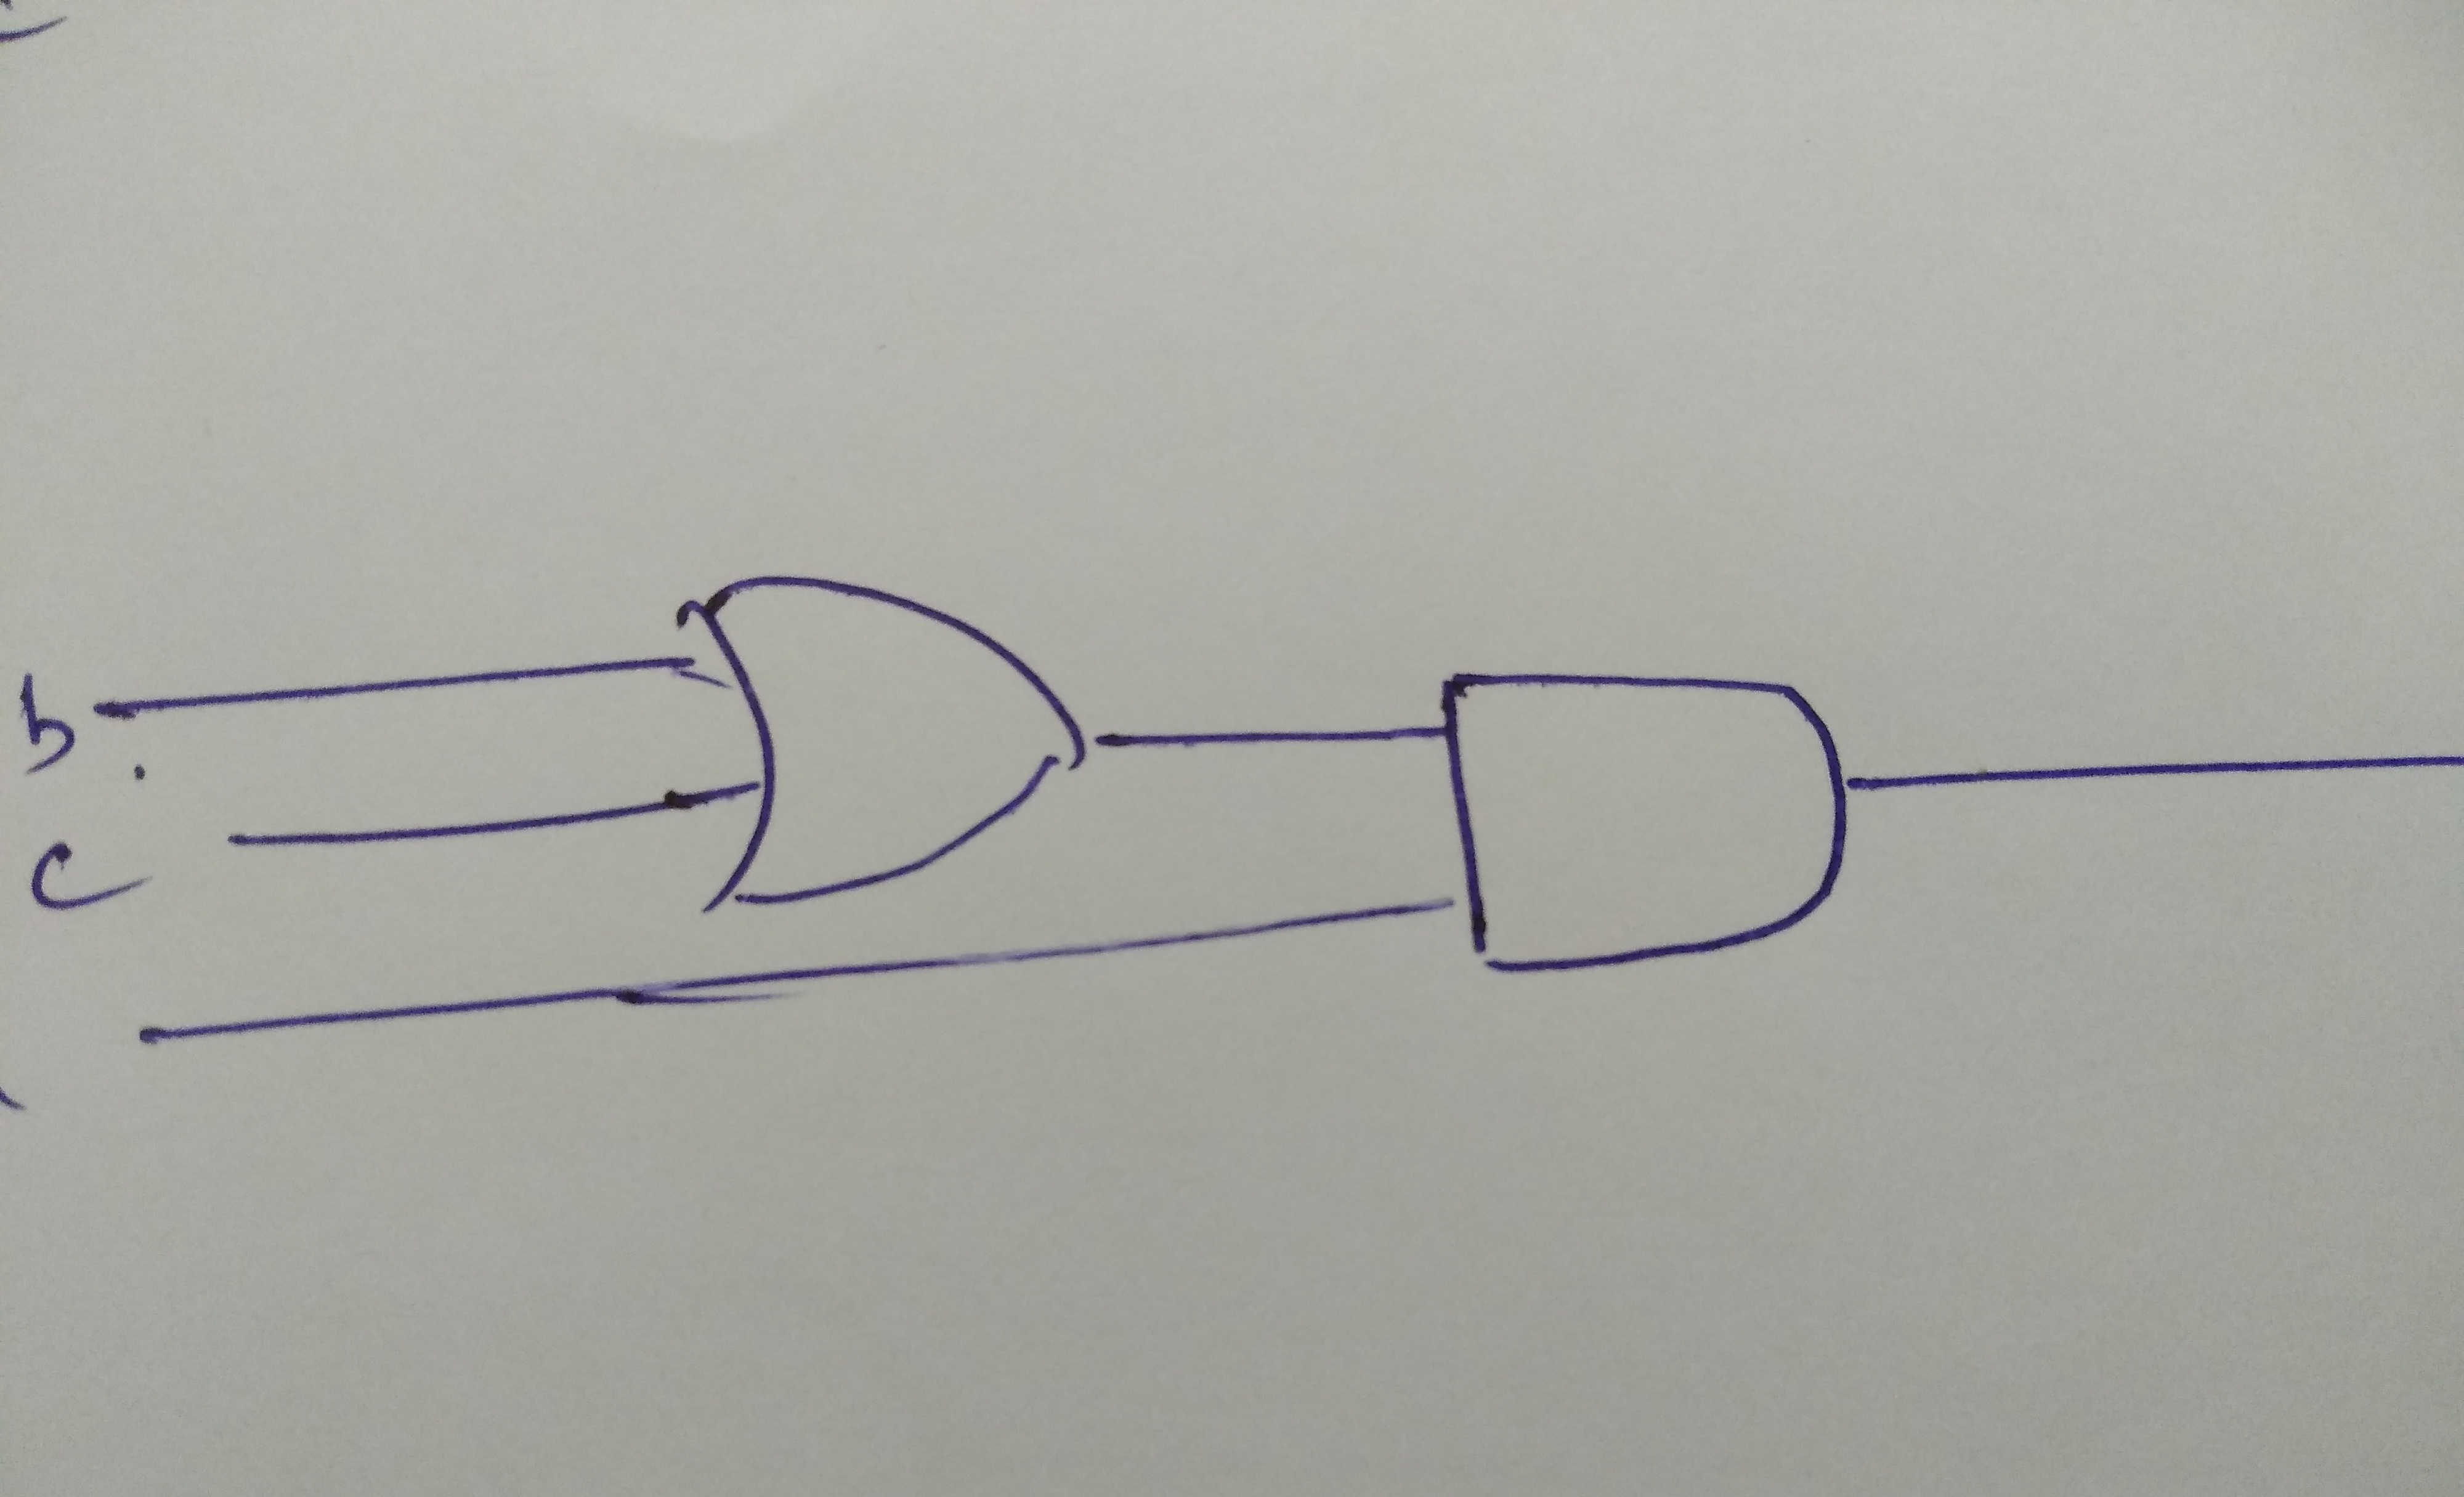and: (1389, 628, 1913, 1029)
or: (604, 529, 1121, 932)
